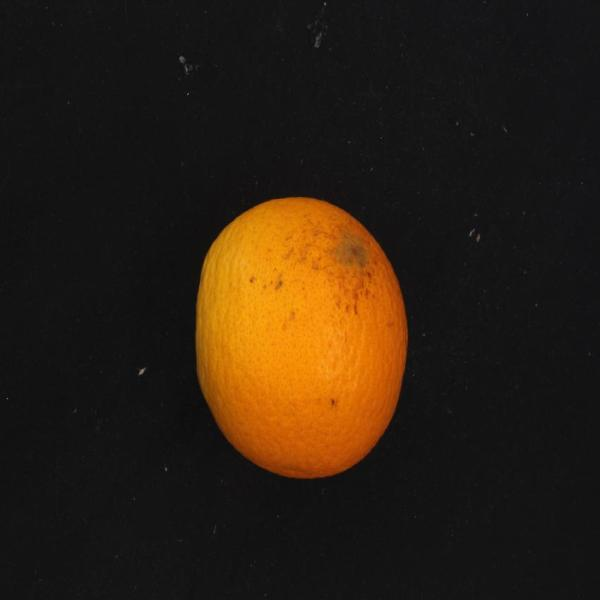Sana: (180, 187, 424, 484)
